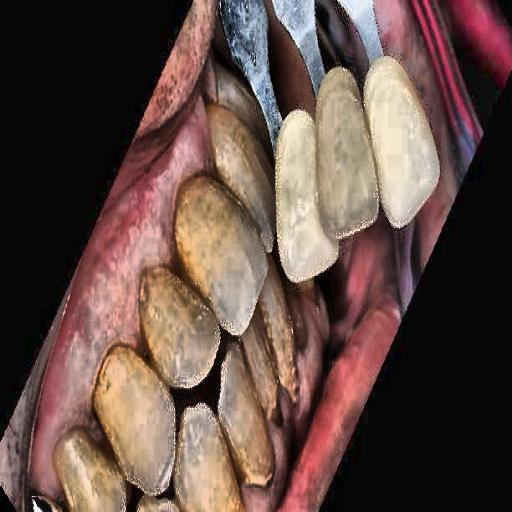Calculus: (235, 278, 313, 464), (182, 93, 234, 308), (96, 283, 162, 439)
